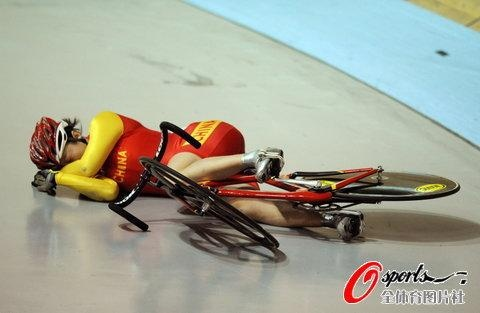falling: (24, 95, 367, 254)
